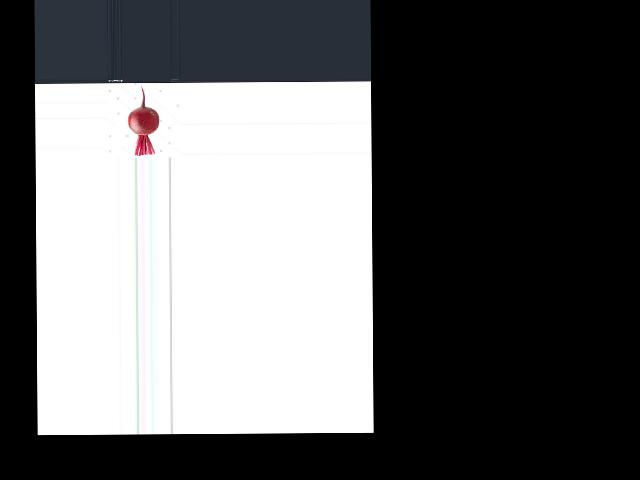beet: (128, 84, 159, 155)
